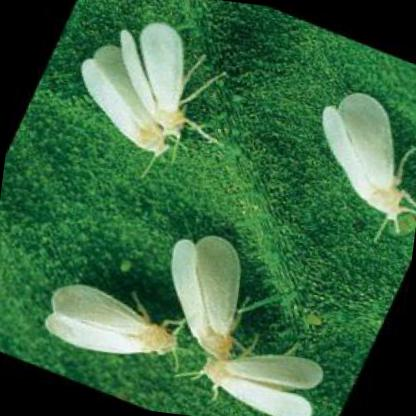whitefly: (321, 94, 401, 223), (46, 284, 177, 354), (169, 238, 237, 362), (200, 353, 320, 416), (120, 22, 185, 132)
